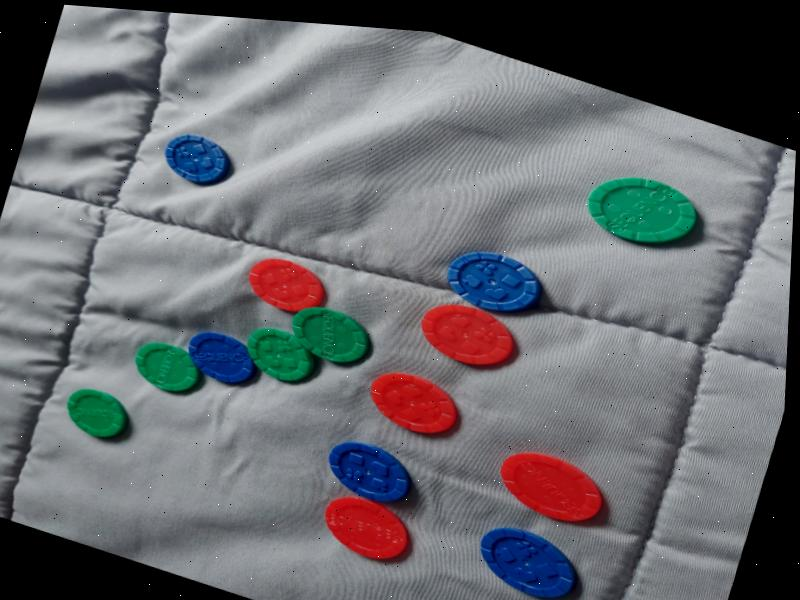Blue_Token: (451, 505, 601, 600), (427, 233, 549, 323), (309, 426, 428, 516), (169, 319, 271, 402), (142, 116, 242, 200)
Green_Token: (561, 153, 711, 277), (36, 367, 163, 463), (232, 313, 338, 403), (273, 294, 380, 382), (115, 323, 210, 406)
Red_Token: (480, 428, 629, 541), (398, 283, 541, 389), (297, 479, 434, 579), (342, 356, 472, 453), (221, 240, 340, 331)
